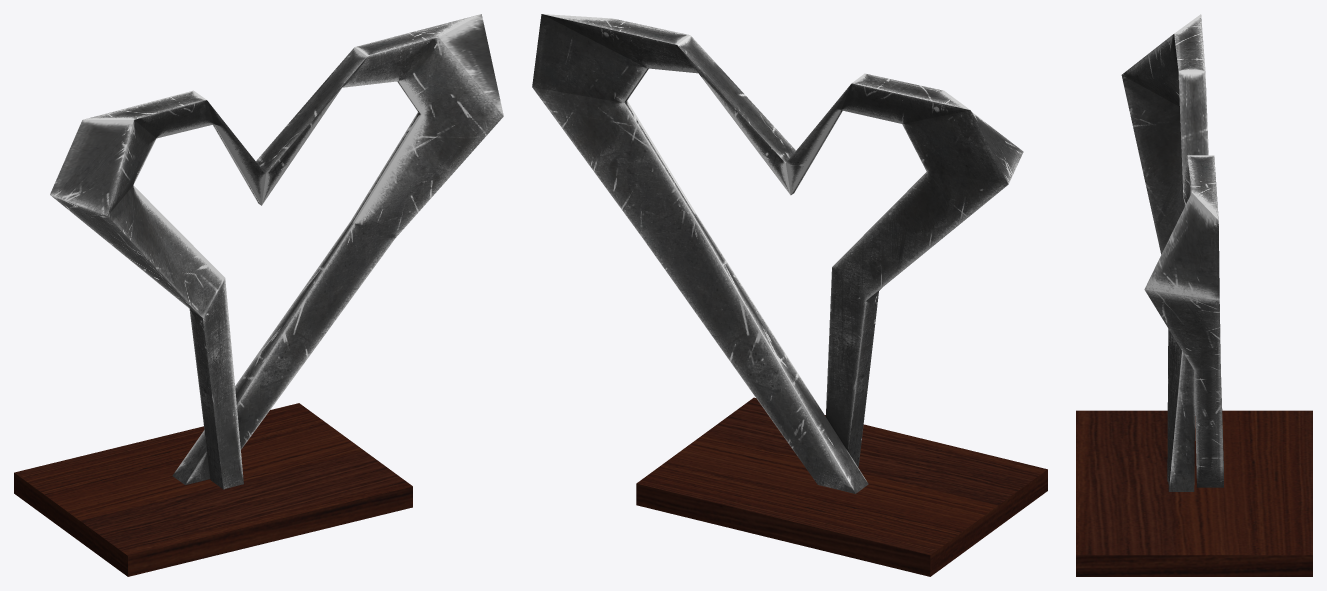
Rendered from Heart_Decoration.glb.
3 renders of one model, left to right at view 1: azimuth 30°, elevation 25°; view 2: azimuth 150°, elevation 25°; view 3: azimuth 270°, elevation 25°, orthographic. The views are drawn at different scales.
Parts seen in each view (by area): view 1: GlassHeart_HeartTexture_0, Stand_StandTexture_0; view 2: GlassHeart_HeartTexture_0, Stand_StandTexture_0; view 3: Stand_StandTexture_0, GlassHeart_HeartTexture_0.
Part boxes in pixels (x1=…): GlassHeart_HeartTexture_0: x1=50, y1=14, x2=503, y2=489; Stand_StandTexture_0: x1=14, y1=403, x2=412, y2=576; GlassHeart_HeartTexture_0: x1=532, y1=14, x2=1023, y2=493; Stand_StandTexture_0: x1=636, y1=397, x2=1047, y2=576; Stand_StandTexture_0: x1=1076, y1=410, x2=1312, y2=576; GlassHeart_HeartTexture_0: x1=1121, y1=14, x2=1223, y2=491.
Size of the model in its own units: 68.54 by 59.49 by 29.99.
Materials: 1 (1 with a texture image).
